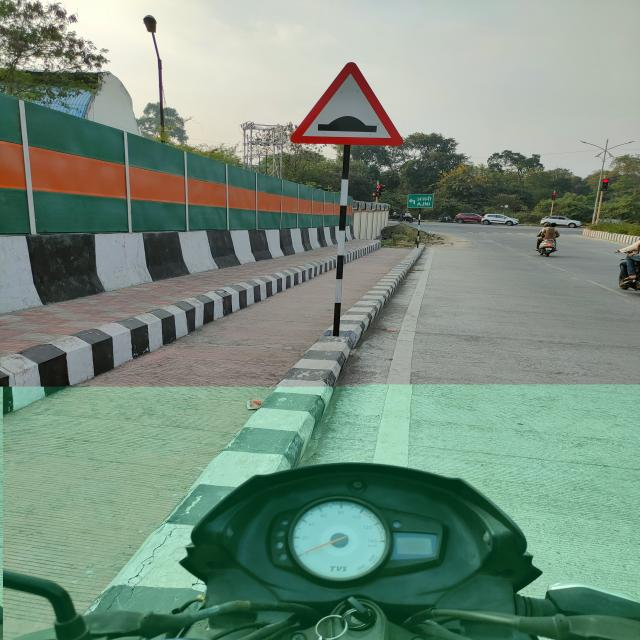HUMP_OR_ROUGH_ROAD: (291, 63, 403, 147)
